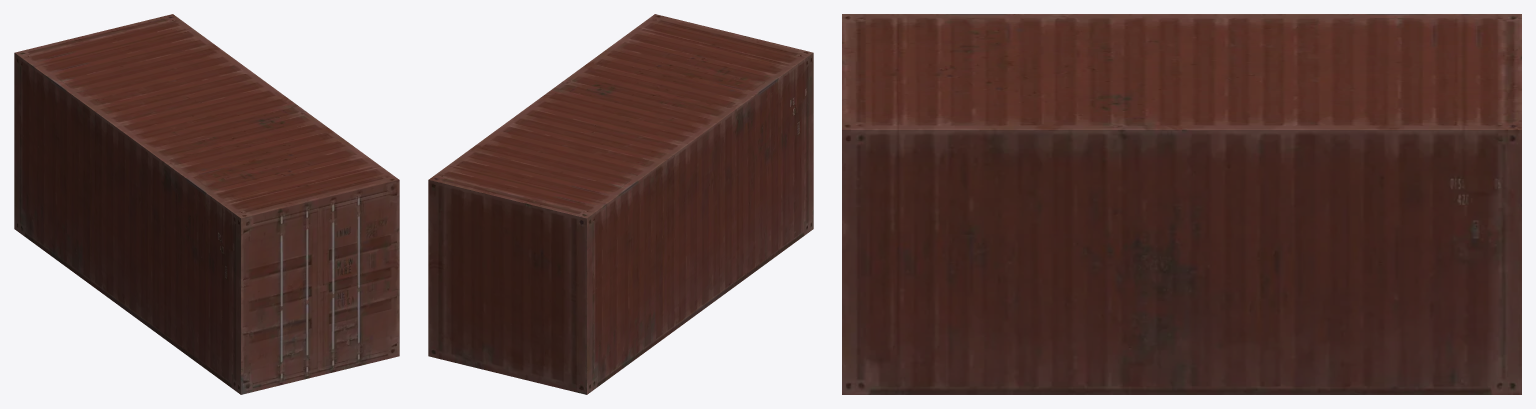
File: container.glb
3 renders of one model, left to right at view 1: azimuth 30°, elevation 25°; view 2: azimuth 150°, elevation 25°; view 3: azimuth 270°, elevation 25°, orthographic. The views are drawn at different scales.
Parts seen in each view (by area): view 1: Crate.002; view 2: Crate.002; view 3: Crate.002.
Part boxes in pixels (bbox=[...]): Crate.002: bbox=[14, 14, 399, 394]; Crate.002: bbox=[428, 14, 813, 394]; Crate.002: bbox=[842, 14, 1521, 394].
Size of the model in its own units: 2.43 by 2.59 by 6.02.
1 material, 1 textured.
